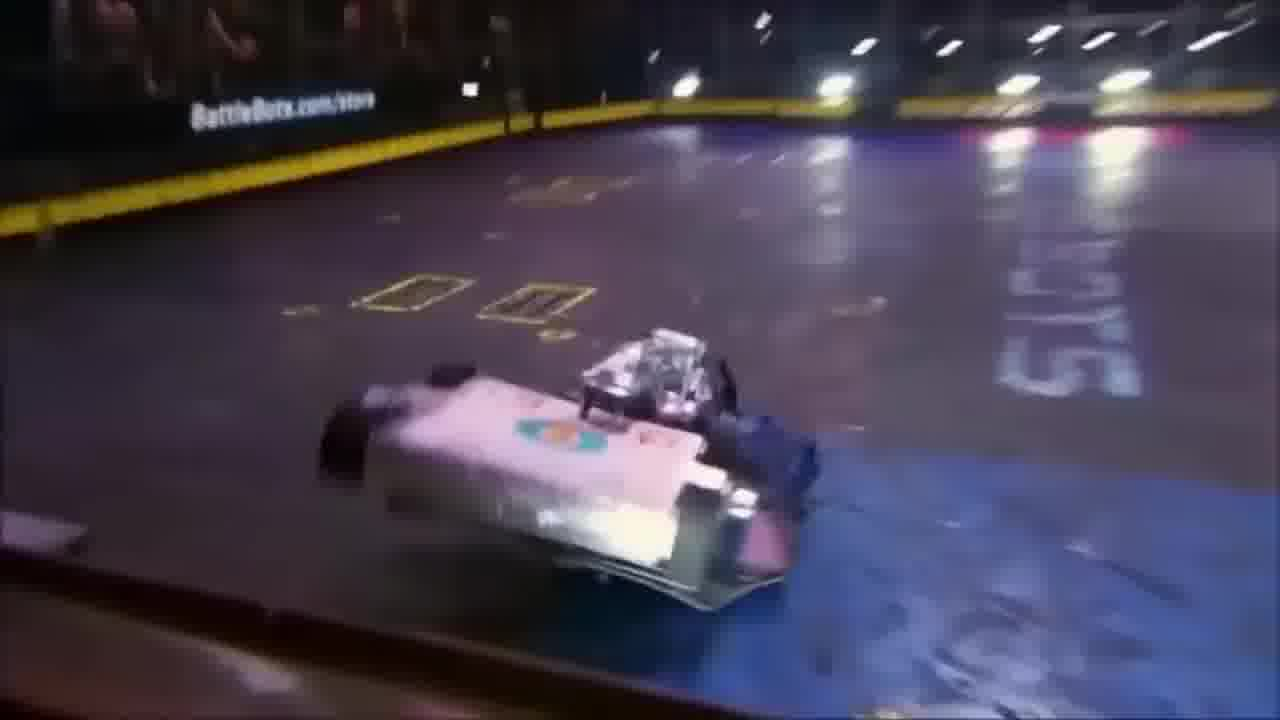combatbot: (314, 340, 815, 635), (578, 329, 739, 430)
